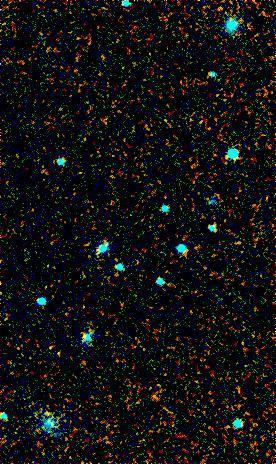star: (33, 396, 63, 426)
